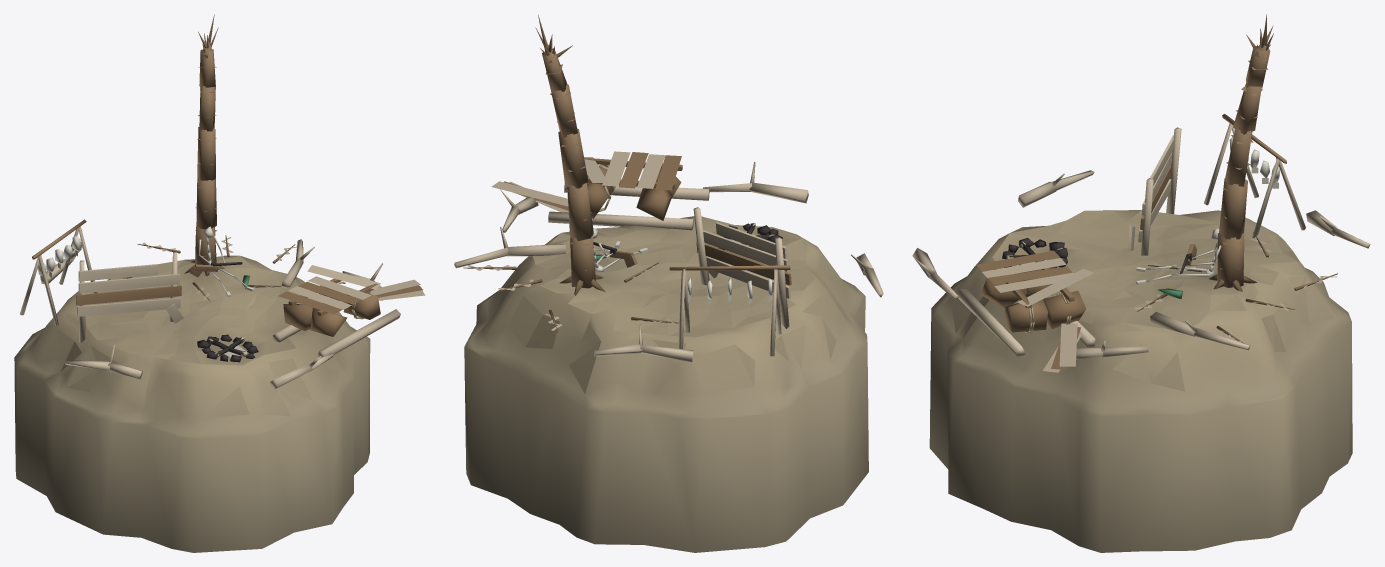
The model's file is castaway_camp_far.42611f89.glb.
The picture shows the model from 3 angles, left to right: view 1: azimuth 30°, elevation 25°; view 2: azimuth 150°, elevation 25°; view 3: azimuth 270°, elevation 25°; orthographic projection. The views are drawn at different scales.
Visible parts, largest first — view 1: castaway_camp; view 2: castaway_camp; view 3: castaway_camp.
Boxes of the visible parts, x1=… form: castaway_camp: x1=14, y1=14, x2=425, y2=552; castaway_camp: x1=454, y1=14, x2=883, y2=552; castaway_camp: x1=912, y1=14, x2=1370, y2=552.
Size of the model in its own units: 7.57 by 8.59 by 7.3.
